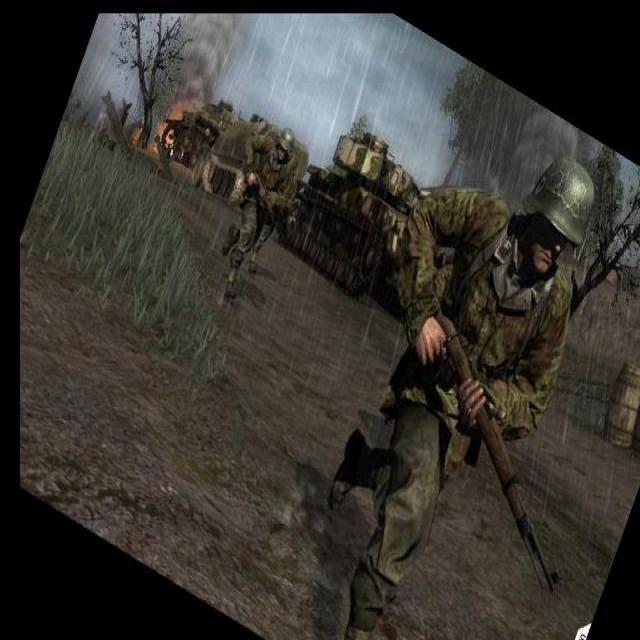weapon: (436, 312, 564, 594), (252, 172, 278, 226)
